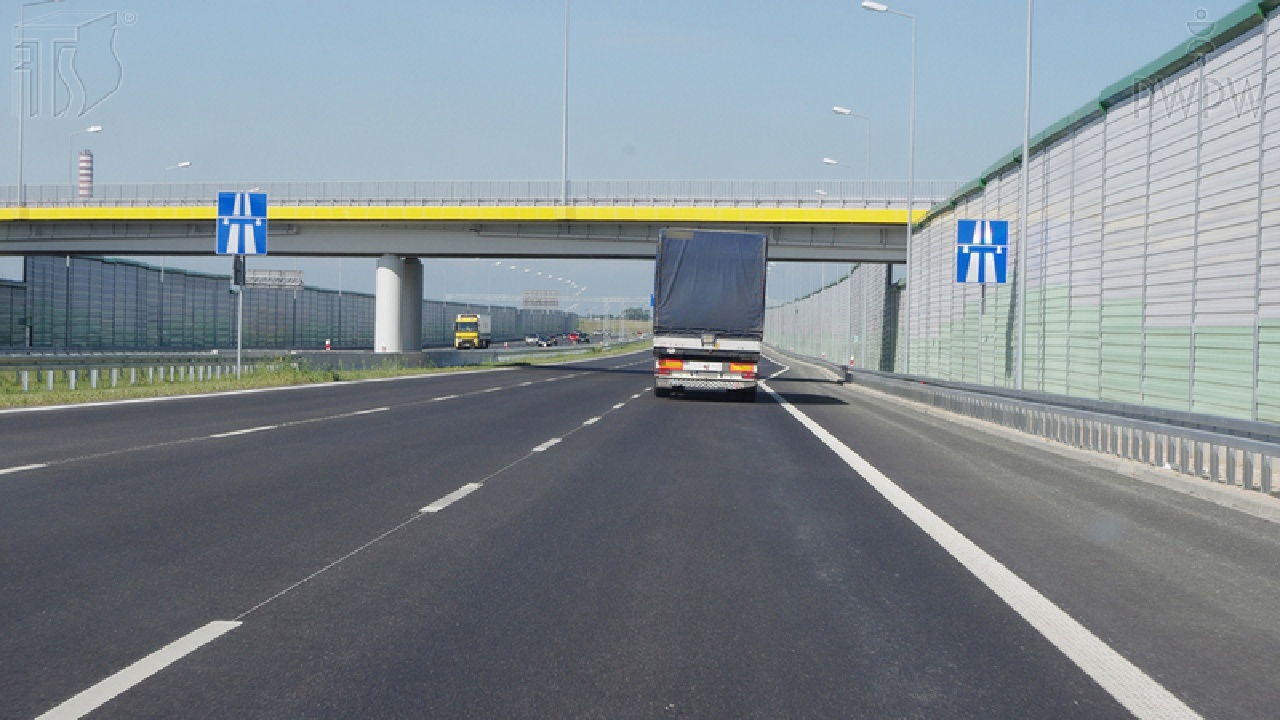D9: (949, 214, 1010, 285), (211, 189, 266, 259)
